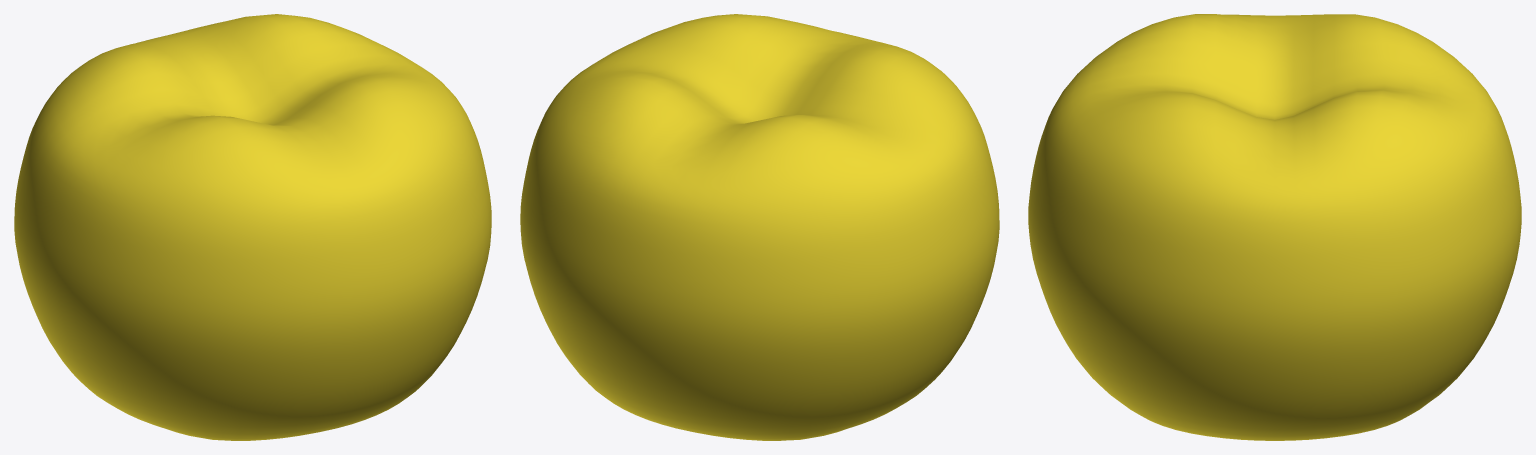
File: uploads_files_4824520_buoifruit 1.fbx
3 views of the same model, side by side, from view 1: azimuth 30°, elevation 25°; view 2: azimuth 150°, elevation 25°; view 3: azimuth 270°, elevation 25° (orthographic). The views are drawn at different scales.
Visible parts, largest first — view 1: buoifruit; view 2: buoifruit; view 3: buoifruit.
Part boxes in pixels (x1,y1,x2,y2): buoifruit: (14,14,491,440); buoifruit: (520,14,999,440); buoifruit: (1028,14,1521,440).
Size of the model in its own units: 2615 by 1878 by 2615.
